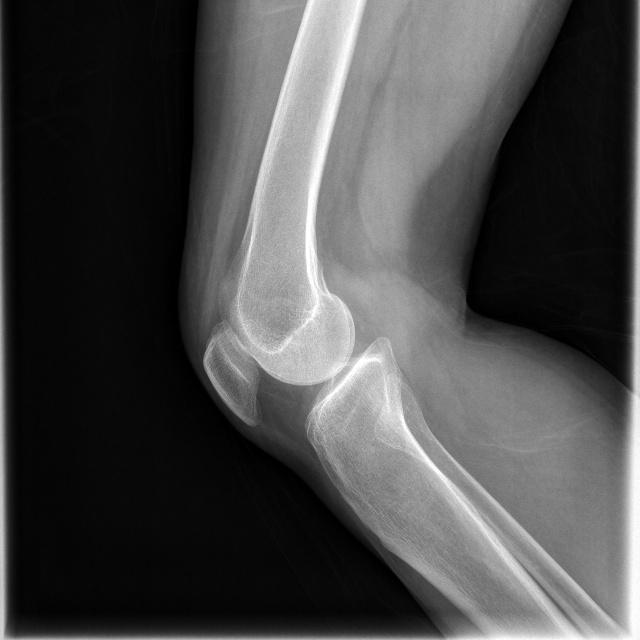Knee: (200, 275, 399, 477)
